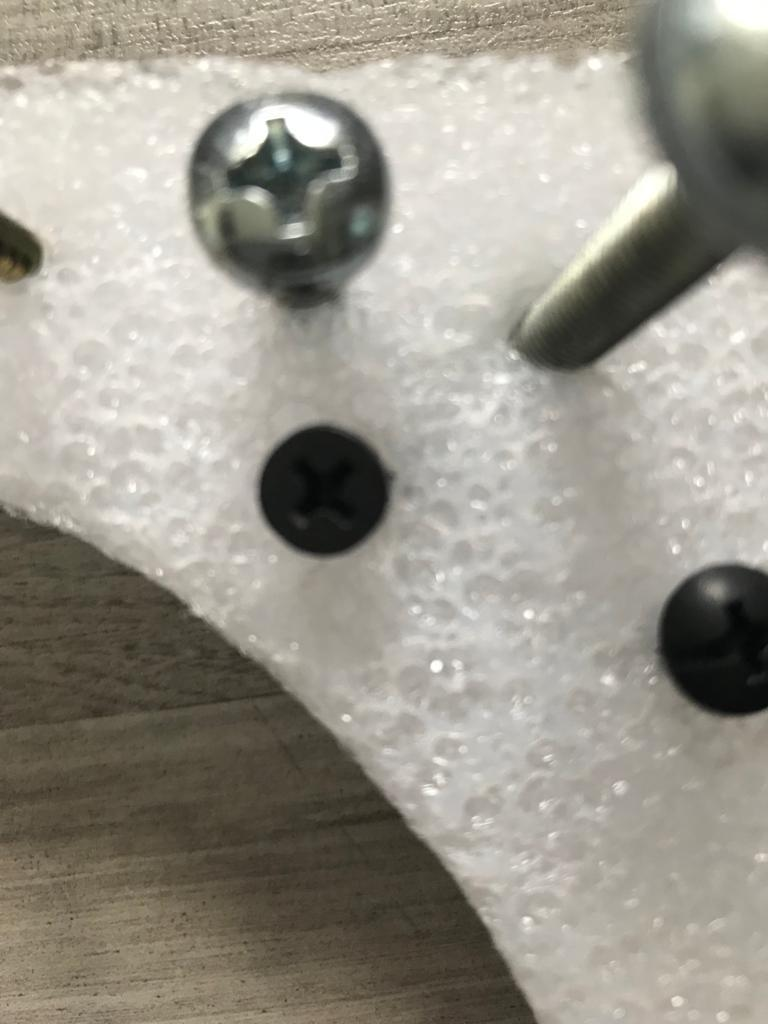PH: (188, 92, 385, 285), (259, 426, 388, 554), (662, 562, 768, 715)
